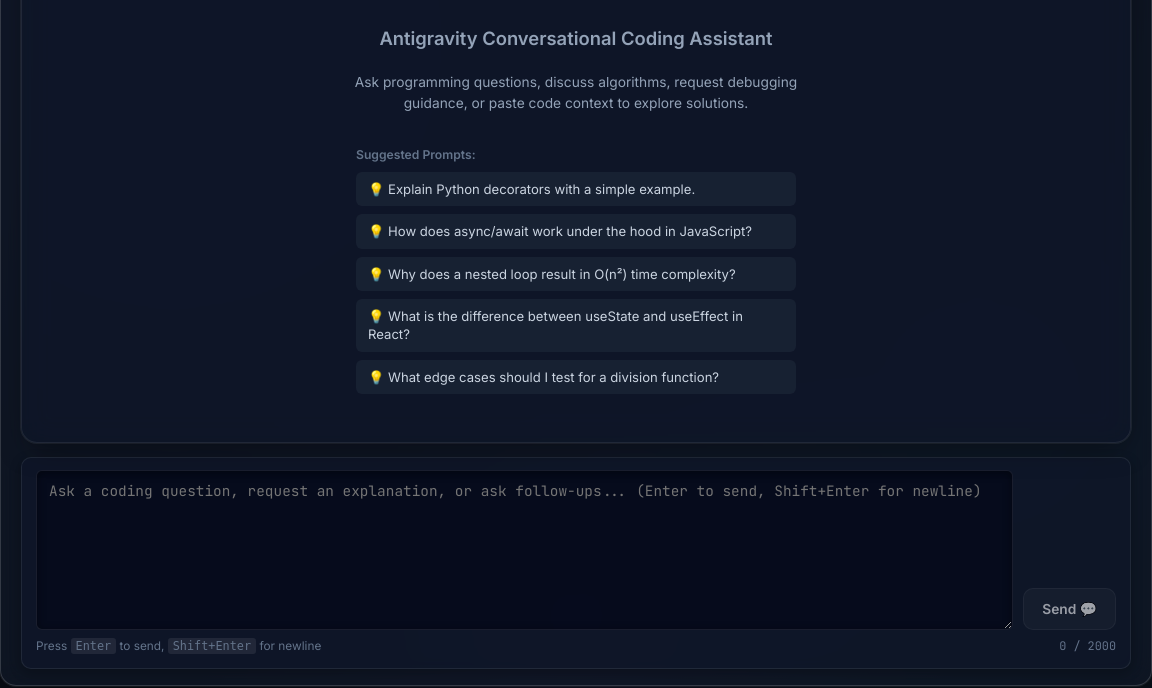
it: AIChatView Feature Integration › submits a user message and renders AI response
(page scrolled)
Replace the text in the text box named "Chat message input" with "Explain Python decorators." at (525, 550), box [36, 470, 1013, 630]
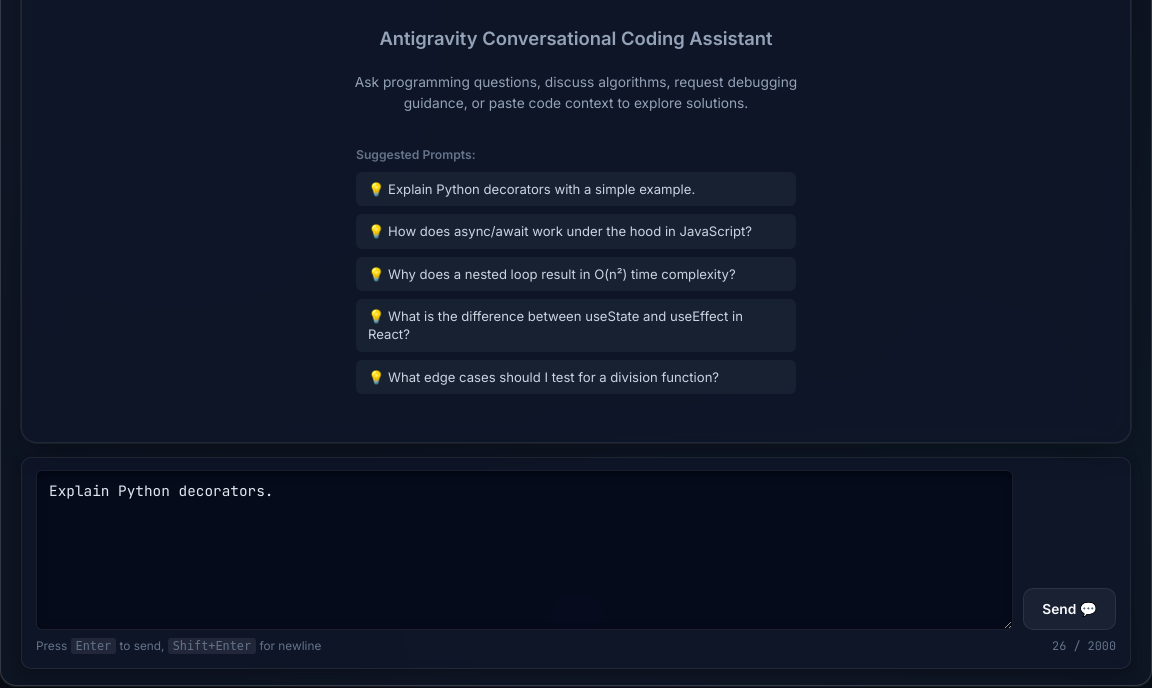
Result: the button named "Send message to AI assistant" is enabled
Click the button named "Send message to AI assistant".
click(1070, 609)  # box [1023, 588, 1116, 630]
(page scrolled)
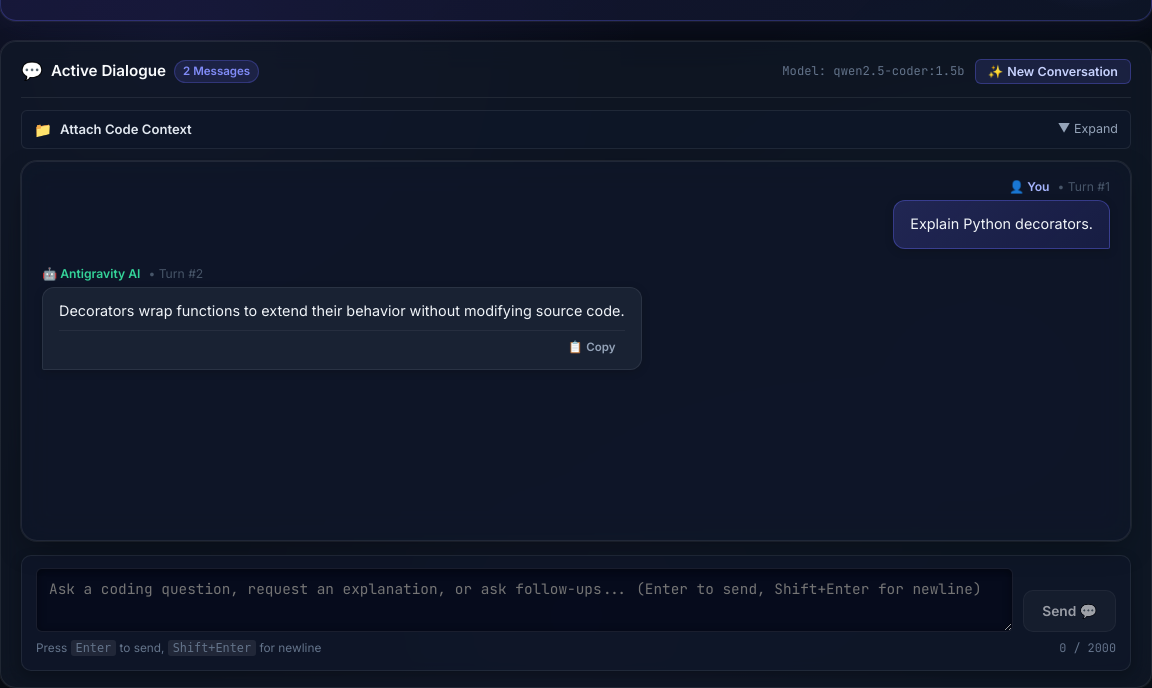
Result: the text "Explain Python decorators." is shown at [910, 215, 1093, 232]
Result: the text "Decorators wrap functions to extend their behavior" is shown at [59, 302, 625, 319]
Result: the text "2 Messages" is shown at [174, 60, 259, 83]
